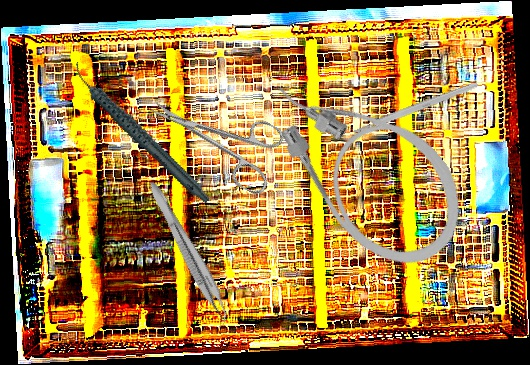Cannula: (247, 37, 487, 289)
Handpiece: (70, 40, 211, 226)
Iris Scissors: (137, 72, 293, 198)
Scalpel Handle: (351, 80, 480, 136)
Tissue Forceps: (138, 178, 239, 331)
